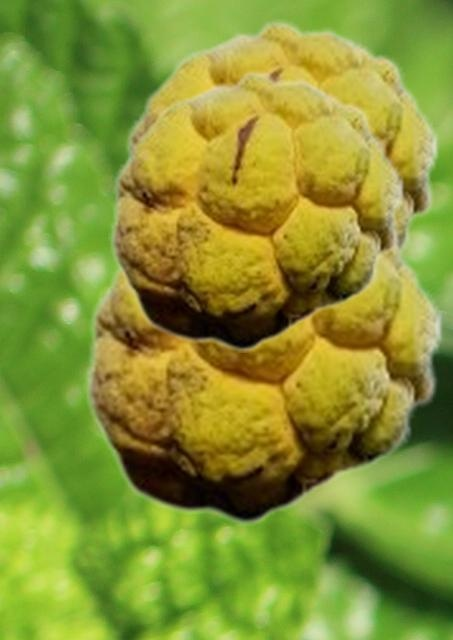atis: (83, 229, 443, 524), (108, 70, 404, 351), (120, 19, 439, 251)
